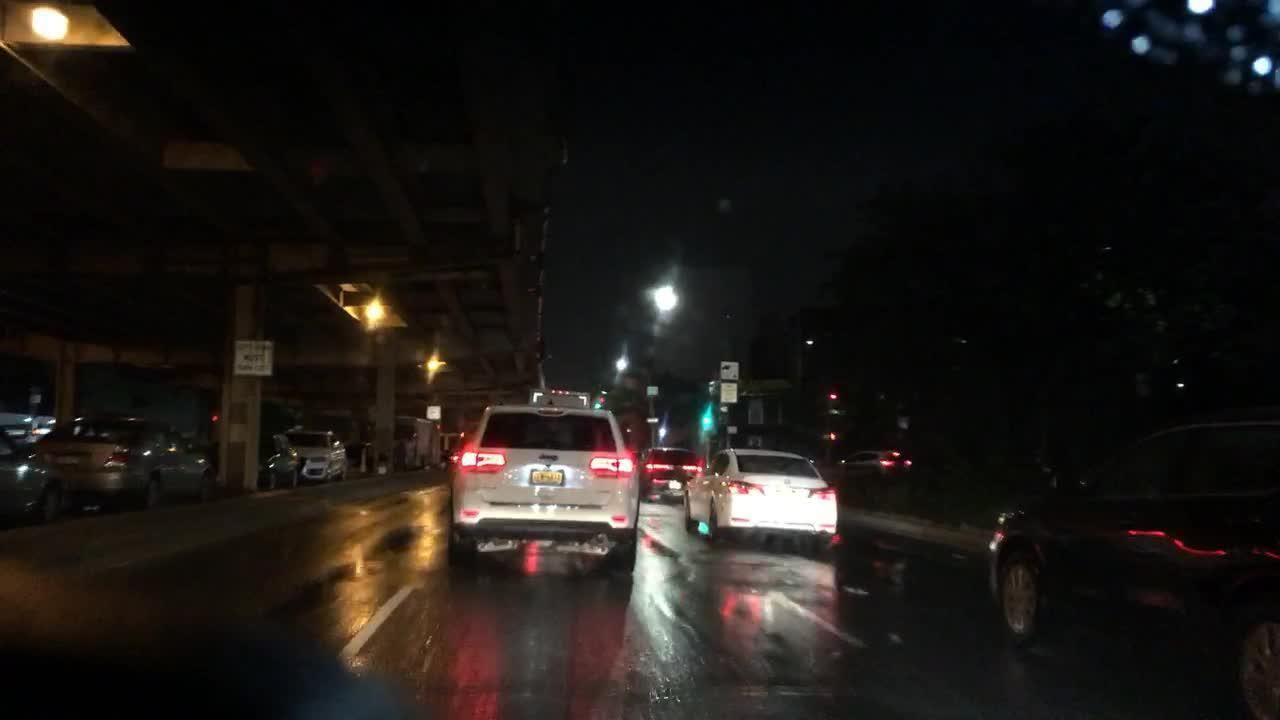jeep: (534, 445, 567, 472)
